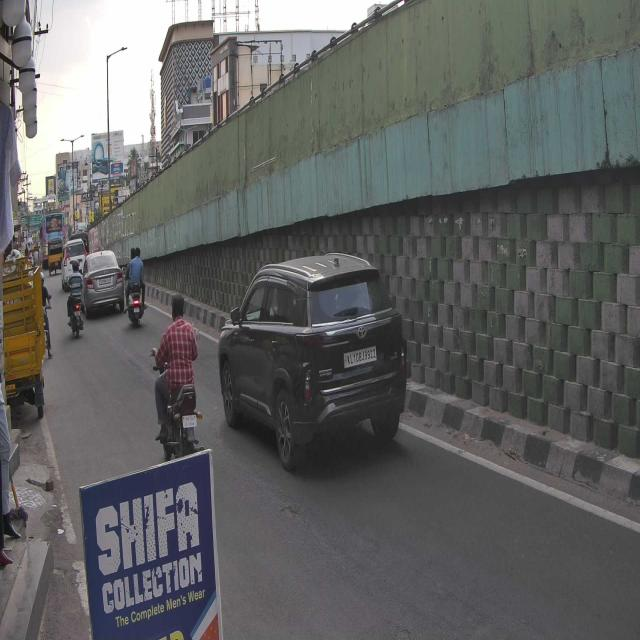single_rider: (150, 287, 207, 474)
